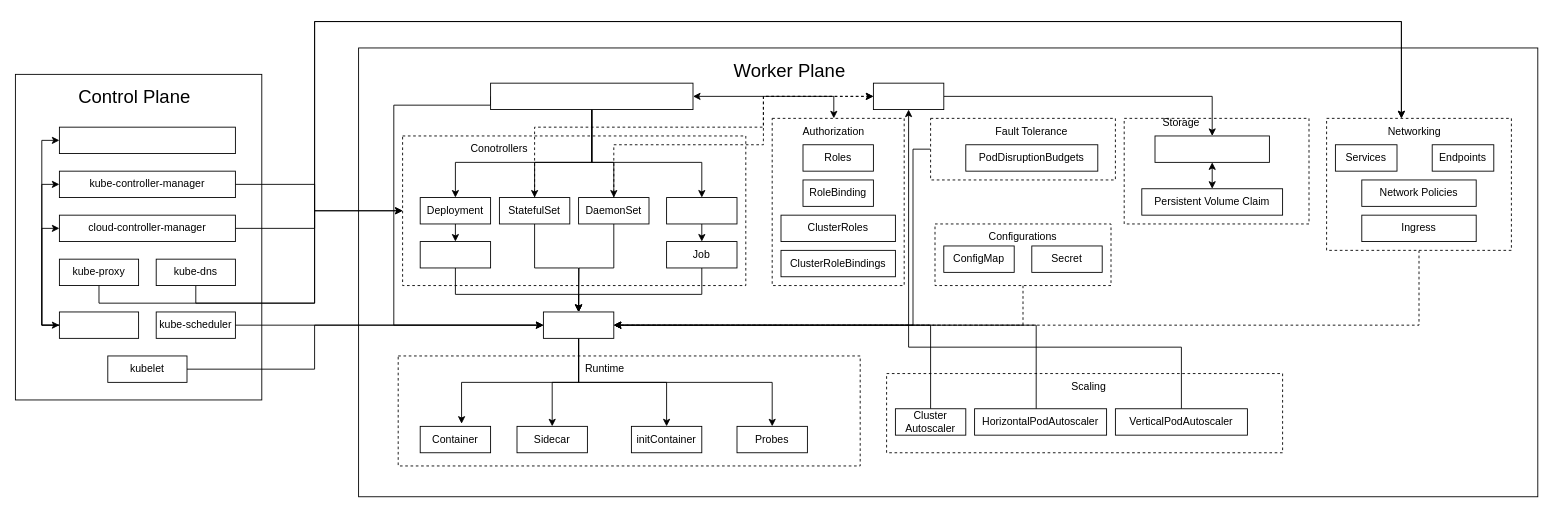
This 1553x512 diagram has some shape labels left out. The shapes that lost their labels are listed below. From the top down, each one's centre as x and y in pixels, then its label:
At point 591,96: "Namespace".
At point 908,96: "Nodes".
At point 147,140: "kube-api-server".
At point 1211,148: "Persistent Volume".
At point 701,210: "CronJob".
At point 455,254: "ReplicaSet".
At point 99,324: "etcd".
At point 578,324: "Pods".
